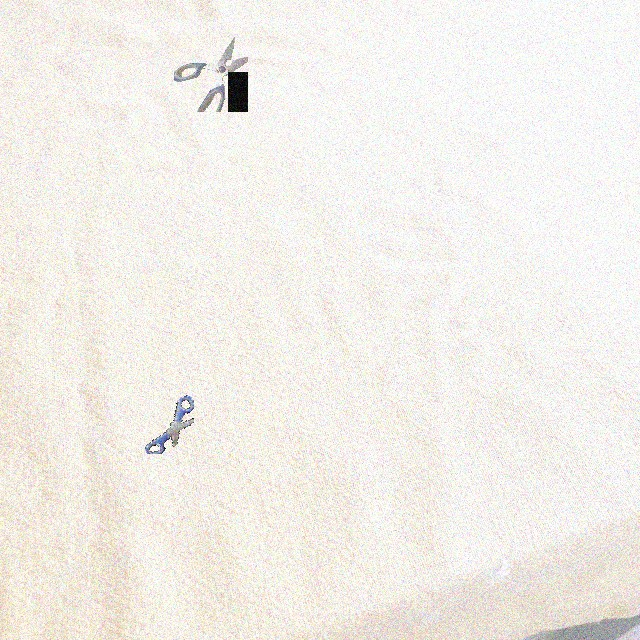scissors: (174, 37, 248, 112), (145, 395, 194, 454)
